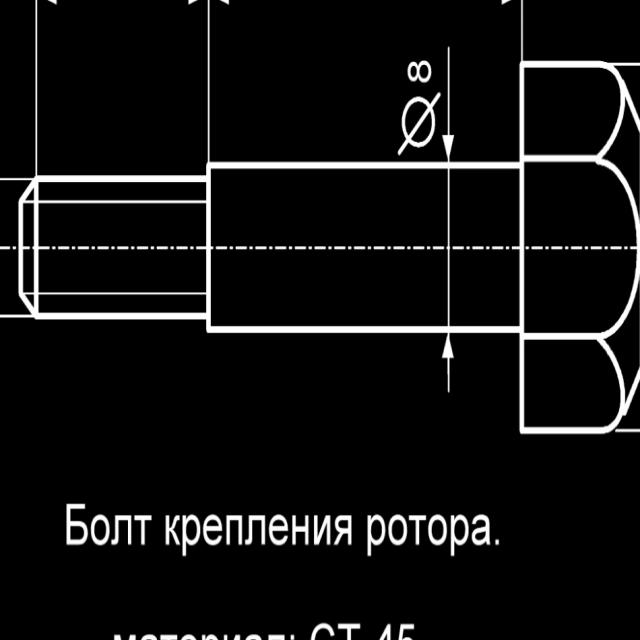marking_line: (441, 49, 459, 164), (444, 339, 458, 397)
numeric: (397, 58, 440, 84)
special_symbol: (391, 89, 441, 159)
